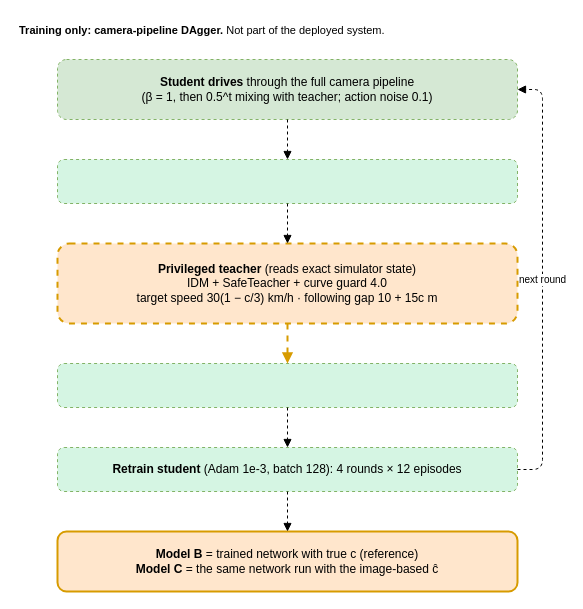
Image size: 583x609. Some labels were removed from this diagram. The shapes that lost their labels are listed below. From the top down, each one's centre as x and y in pixels, then its label:
At pixel 287 181: "States visited (weather mix clear / fog / rain; true c known in training)".
At pixel 287 385: "Action labels for the visited states → aggregate all rounds".
